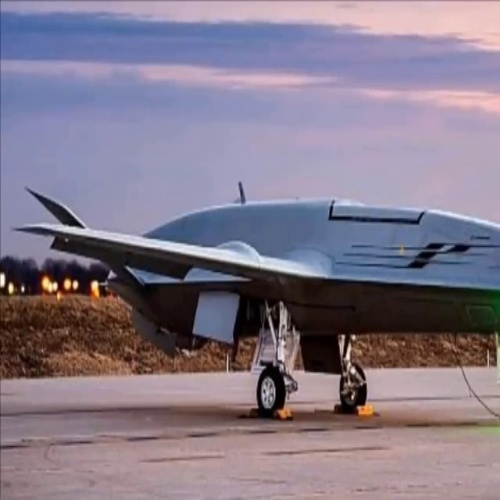uav987: (6, 181, 500, 425)
